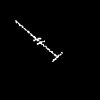treble_crochet: (16, 21, 61, 61)
